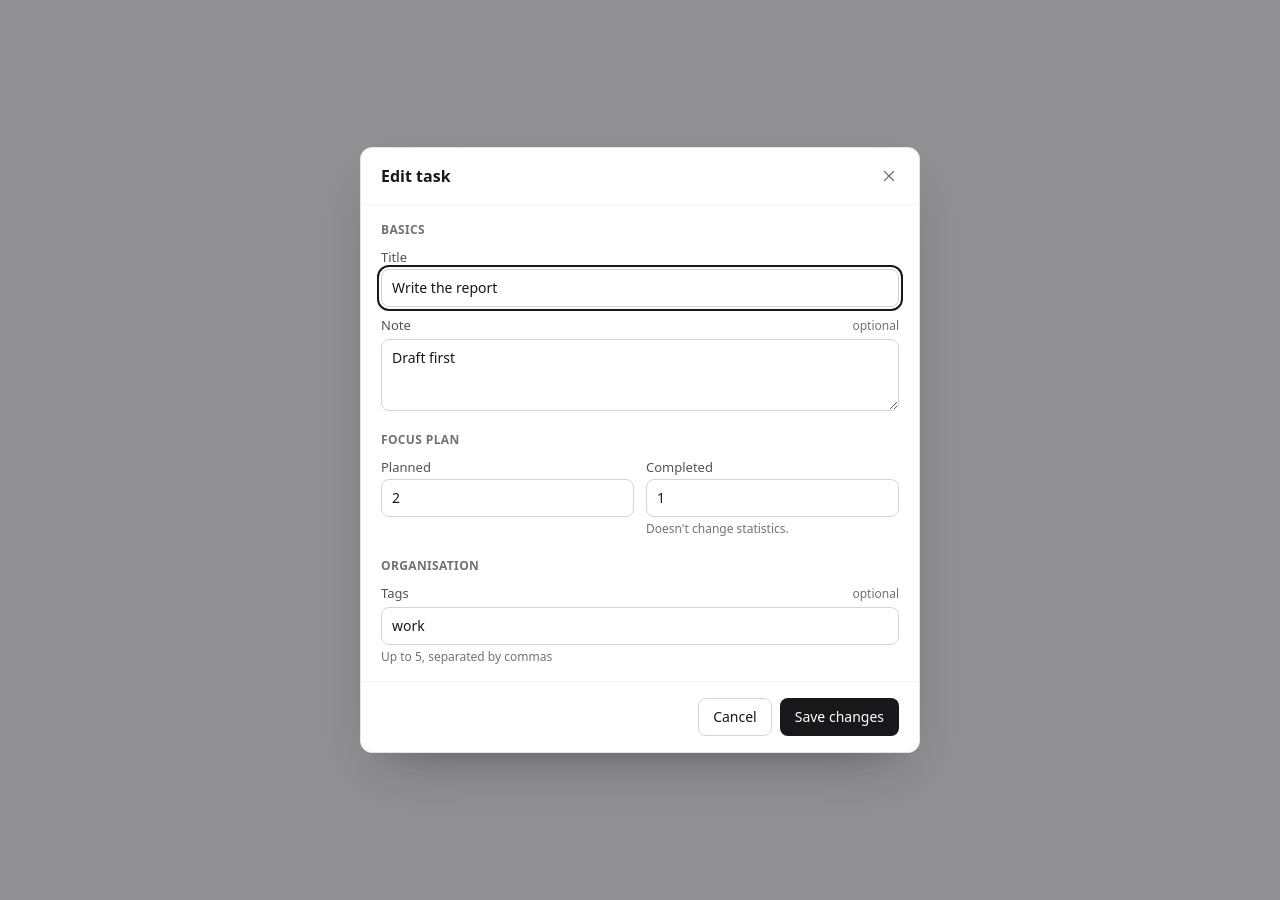
Test: EditTaskDialog › rejects an out-of-range completed count without saving
Replace the text in the number field labelled "Completed" with "1000". click: (772,498)
box: [646,479,899,517]
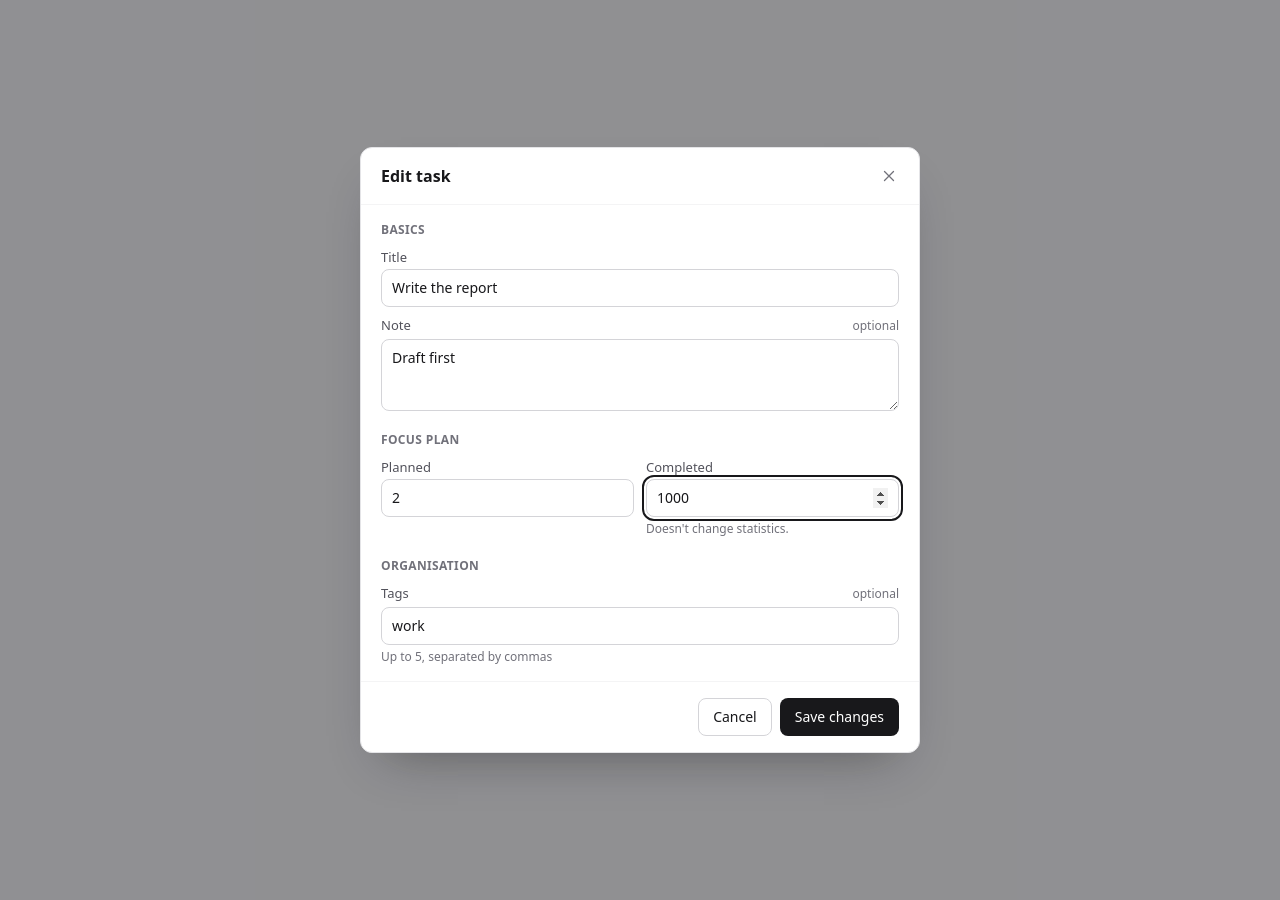
Click the button "Save changes". click: (839,717)
box: [780,698,899,736]
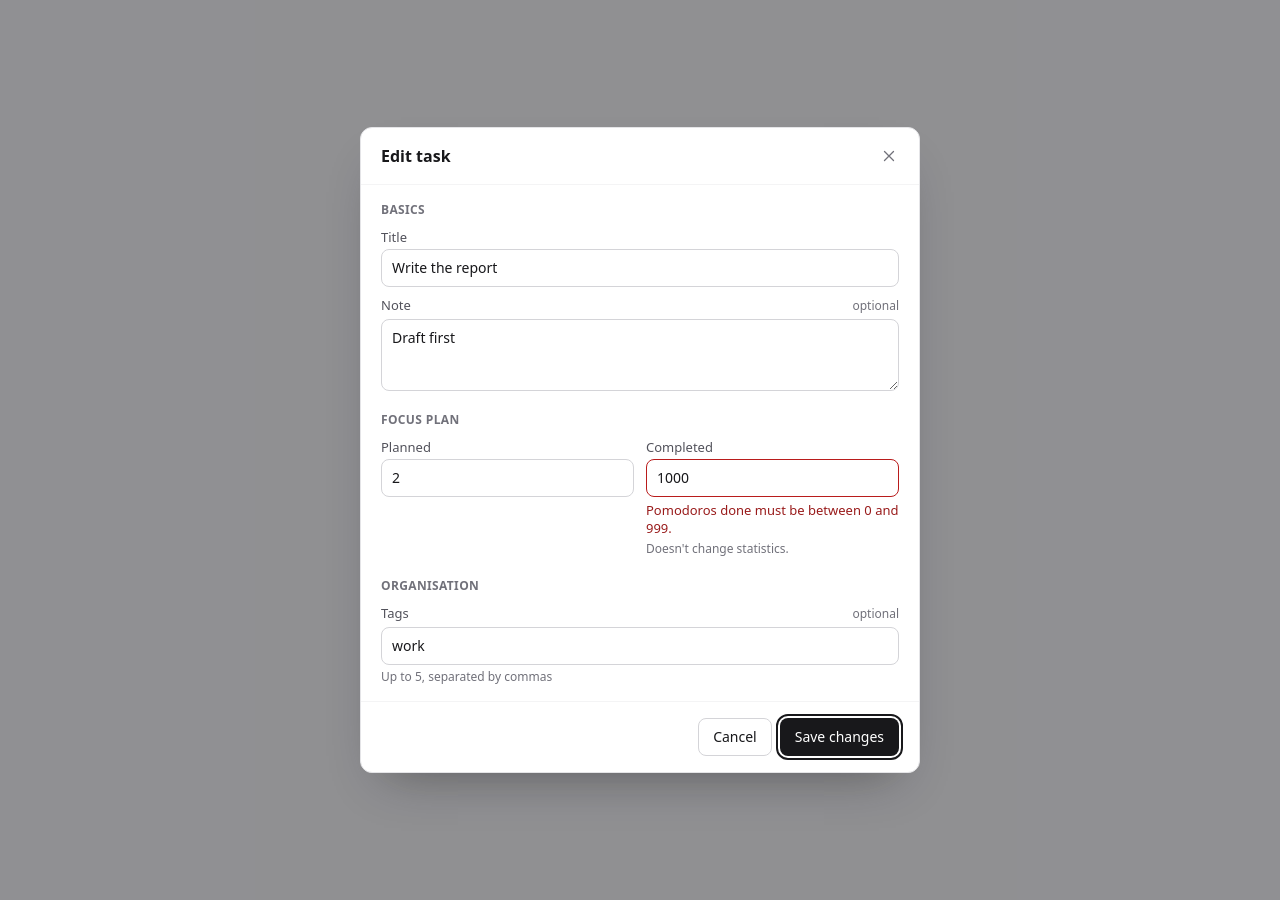
Expected: the message reads "Pomodoros done must be between 0 and 999.", [646,501,898,537]
